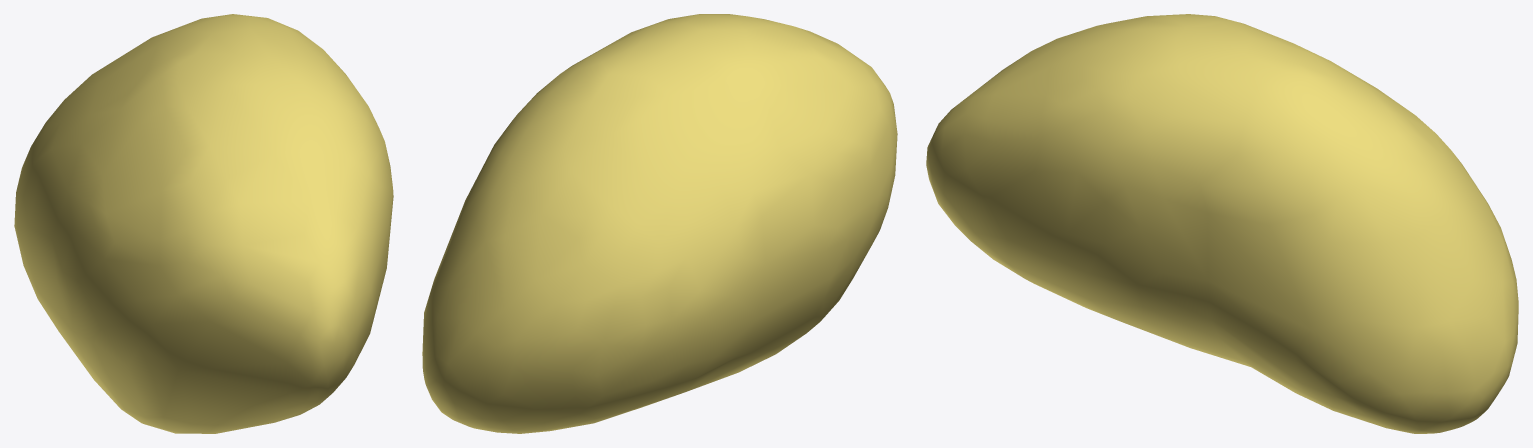
The model's file is thalamus-l.glb.
The picture shows the model from 3 angles, left to right: view 1: azimuth 30°, elevation 25°; view 2: azimuth 150°, elevation 25°; view 3: azimuth 270°, elevation 25°; orthographic projection. The views are drawn at different scales.
Visible parts, largest first — view 1: Thalamus.l; view 2: Thalamus.l; view 3: Thalamus.l.
Boxes of the visible parts, x1,y1,x2,y2 form: Thalamus.l: (14,14,393,433); Thalamus.l: (422,14,897,433); Thalamus.l: (926,14,1518,433).
Bounding box in the file's own units: 0.0227 × 0.0229 × 0.0354.
